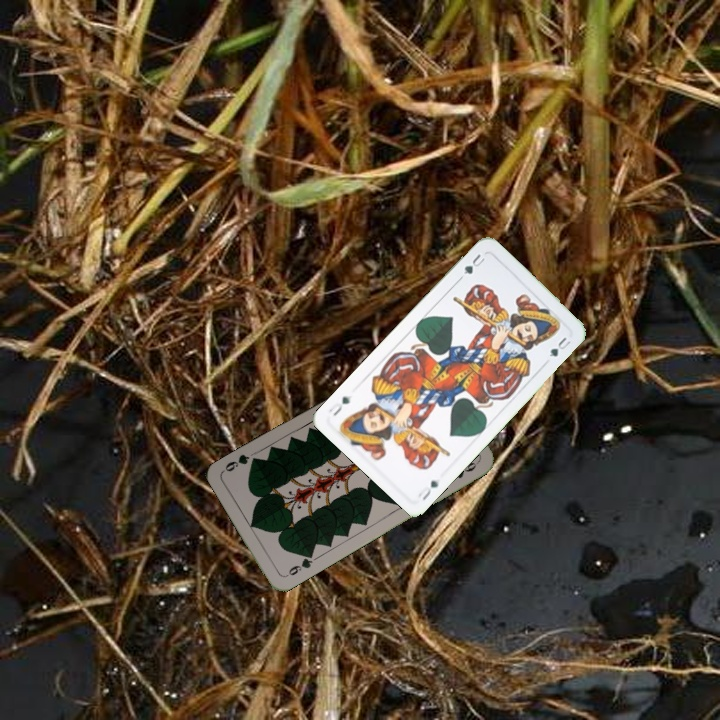G9: (281, 550, 316, 580)
GU: (455, 250, 487, 282), (414, 476, 441, 503)
